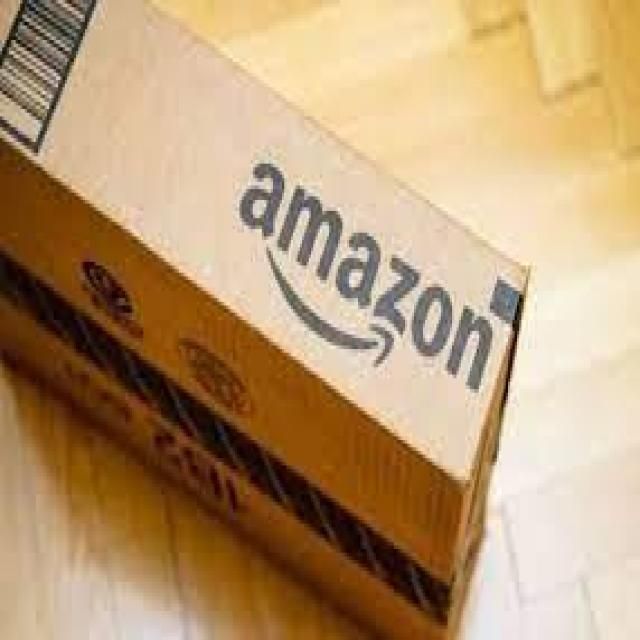box: (0, 0, 527, 631)
